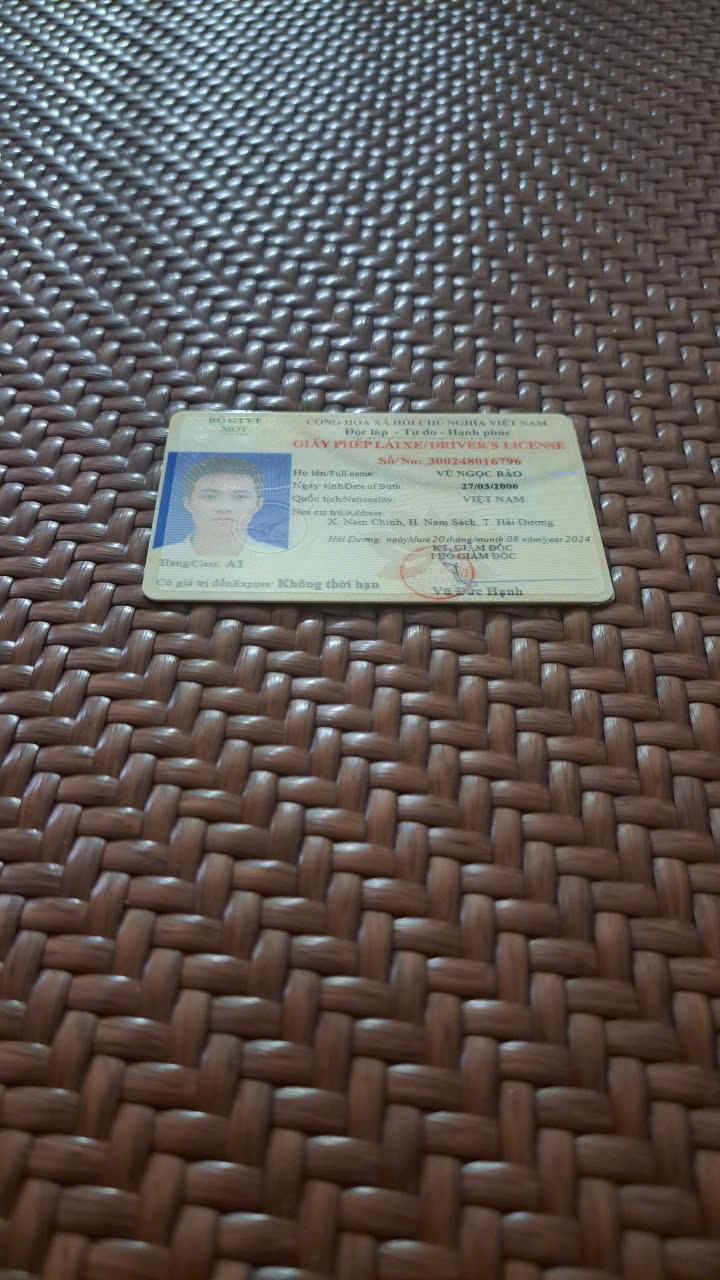gplx: (138, 403, 620, 610)
